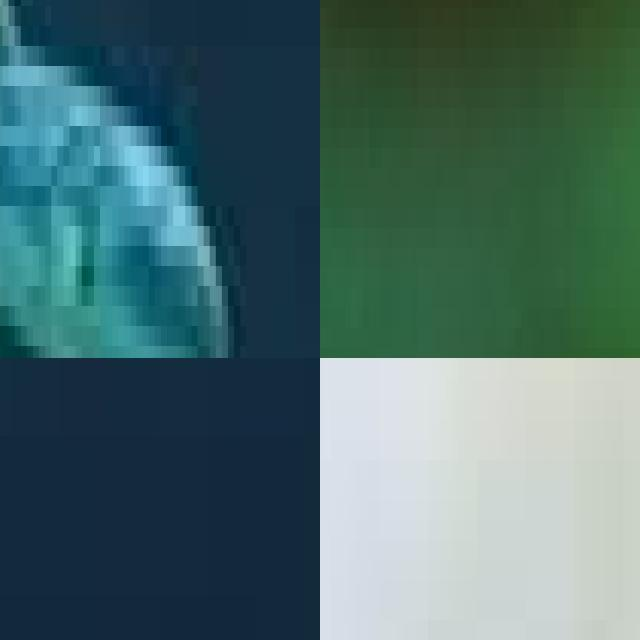fish: (0, 0, 320, 358), (320, 358, 640, 640)
